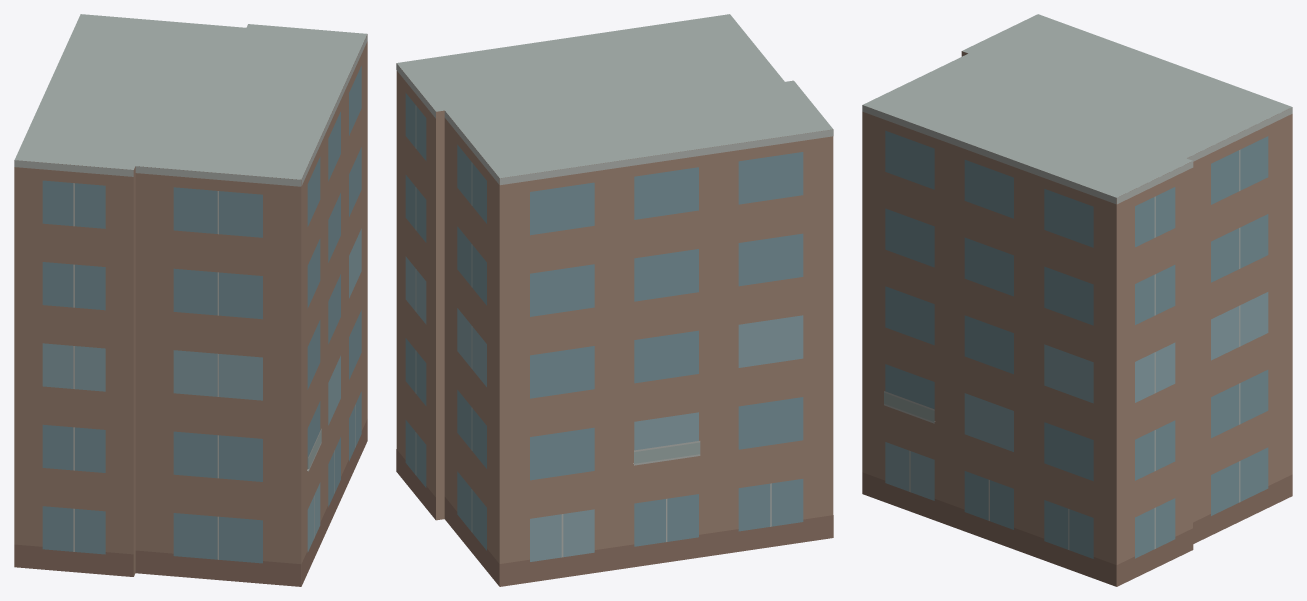
Rendered from survey-upis-32780889.glb.
3 views of the same model, side by side, from view 1: azimuth 30°, elevation 25°; view 2: azimuth 150°, elevation 25°; view 3: azimuth 270°, elevation 25° (orthographic). The views are drawn at different scales.
Visible parts, largest first — view 1: survey-upis-32780889.tmp; view 2: survey-upis-32780889.tmp; view 3: survey-upis-32780889.tmp.
Part boxes in pixels (x1=…): survey-upis-32780889.tmp: x1=14, y1=14, x2=367, y2=586; survey-upis-32780889.tmp: x1=396, y1=14, x2=833, y2=586; survey-upis-32780889.tmp: x1=862, y1=14, x2=1292, y2=586.
Size of the model in its own units: 14.45 by 14.25 by 14.29.
